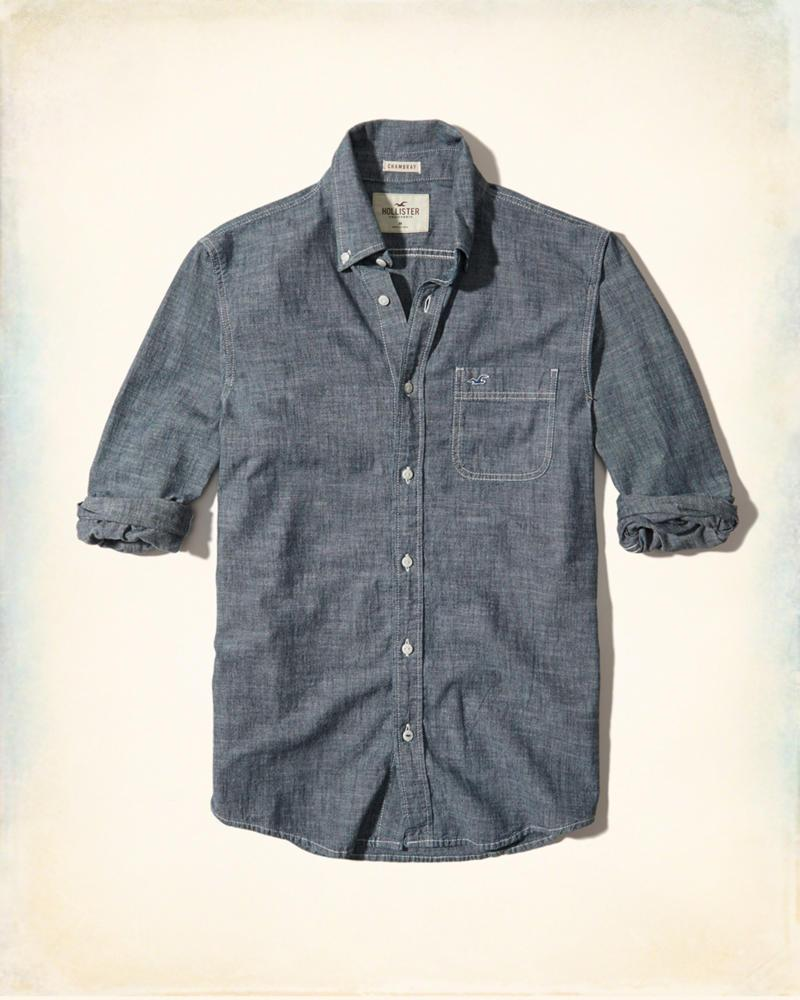teeshirt: (62, 119, 745, 877)
